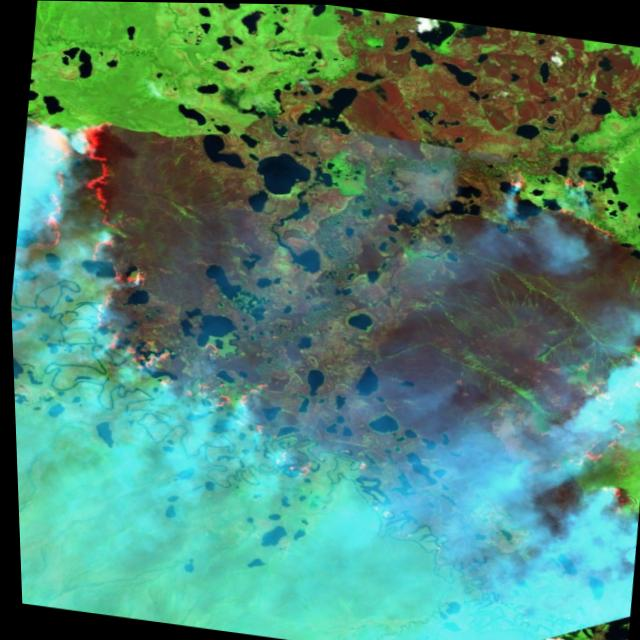fire: (3, 106, 353, 484), (525, 322, 640, 522), (481, 159, 621, 237)
